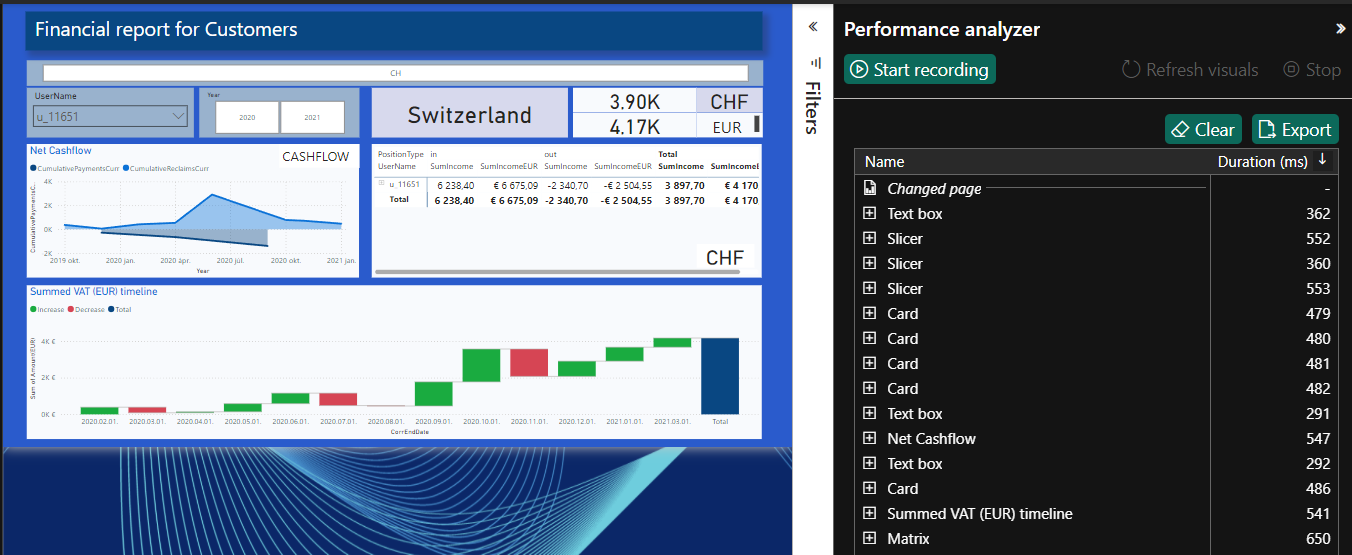

The page's visual inventory and layout, read from the dashboard file:
{"tool":"powerbi","page":{"name":"ReportUser","canvas":[1280,720],"ordinal":8},"visuals":[{"type":"areaChart","title":"Net Cashflow","fields":{"Category":["DATA.StartDate.Variation.Date Hierarchy.Year","DATA.StartDate.Variation.Date Hierarchy.Quarter","DATA.StartDate.Variation.Date Hierarchy.Month"],"Y":["Calculations.CumulativeVATPayments","Calculations.CumulativeVATReclaims"]},"box":[38.5,227.2,539.6,217.1],"z":0},{"type":"textbox","box":[447.9,227.5,130.4,38.4],"z":1000},{"type":"slicer","fields":{"Values":["DATA.UserName"]},"box":[38.4,136.5,271,80.5],"z":2000},{"type":"card","fields":{"Values":["Calculations.Cashflow"]},"box":[925.6,136.5,201.2,40.2],"z":3000},{"type":"card","fields":{"Values":["Calculations.CashflowEUR"]},"box":[925.6,176.7,201.2,40.2],"z":4000},{"type":"card","fields":{"Values":["Calculations.Sel_Currency"]},"box":[1126.8,136.5,106.9,40.2],"z":5000},{"type":"waterfallChart","title":"Summed VAT (EUR) timeline","fields":{"Y":["Sum(DATA.Amount(EUR))"],"Category":["DATA.CorrEndDate.Variation.Date Hierarchy.Year"]},"box":[38.5,456.4,1192.8,249.5],"z":6000},{"type":"slicer","fields":{"Values":["DATA.Country"]},"box":[38.4,92,1195.3,41.3],"z":7000},{"type":"slicer","fields":{"Values":["DATA.PeriodEndYear"]},"box":[318.5,135.9,259.7,81.1],"z":8000},{"type":"card","fields":{"Values":["Calculations.Selected_Country"]},"box":[598.4,135.9,318.5,81.1],"z":9000},{"type":"textbox","box":[1126.8,176.7,106.9,40.2],"z":10000},{"type":"pivotTable","fields":{"Rows":["DATA.UserName","DATA.CorrEndDate.Variation.Date Hierarchy.Year"],"Values":["Calculations.SumNonZeroIncome","Calculations.SumNonZeroIncomeEUR"],"Columns":["DATA.IncomeType"]},"box":[598.4,227.2,632.9,217.1],"z":11000},{"type":"card","fields":{"Values":["Calculations.Sel_Currency"]},"box":[1125.8,389.5,93.3,38.5],"z":13000},{"type":"textbox","box":[35.7,11.4,1195.7,62.9],"z":14000}]}

Visuals, with their boxes on the page's 1280x720 design canvas (x1, y1, x2, y2). These are canvas units, not pixel positions in the 1352x555 screenshot, which may show the page scaled, cropped or inside an application window:
"Net Cashflow" areaChart: (left=38, top=227, right=578, bottom=444)
textbox: (left=448, top=228, right=578, bottom=266)
slicer - DATA.UserName: (left=38, top=136, right=309, bottom=217)
card - Calculations.Cashflow: (left=926, top=136, right=1127, bottom=177)
card - Calculations.CashflowEUR: (left=926, top=177, right=1127, bottom=217)
card - Calculations.Sel_Currency: (left=1127, top=136, right=1234, bottom=177)
"Summed VAT (EUR) timeline" waterfallChart: (left=38, top=456, right=1231, bottom=706)
slicer - DATA.Country: (left=38, top=92, right=1234, bottom=133)
slicer - DATA.PeriodEndYear: (left=318, top=136, right=578, bottom=217)
card - Calculations.Selected_Country: (left=598, top=136, right=917, bottom=217)
textbox: (left=1127, top=177, right=1234, bottom=217)
pivotTable - DATA.UserName x DATA.CorrEndDate.Variation.Date Hierarchy.Year: (left=598, top=227, right=1231, bottom=444)
card - Calculations.Sel_Currency: (left=1126, top=390, right=1219, bottom=428)
textbox: (left=36, top=11, right=1231, bottom=74)
